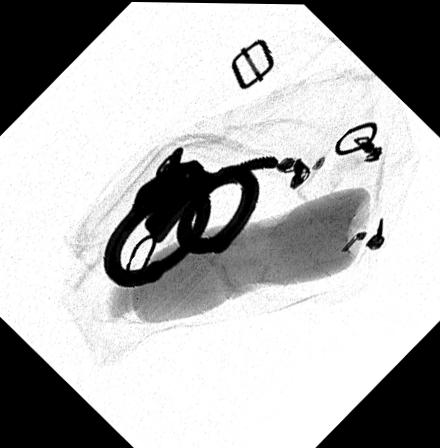HandCuffs: (103, 144, 279, 287)
